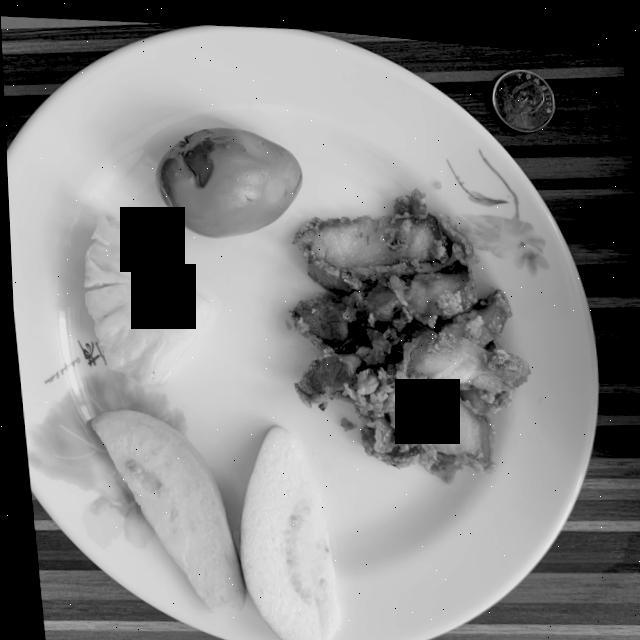coin: (491, 60, 553, 121)
guava -sliced-: (87, 408, 334, 640)
pineapple: (81, 212, 209, 382)
red grilled pork: (286, 180, 526, 475)
soy egg: (154, 124, 300, 234)
